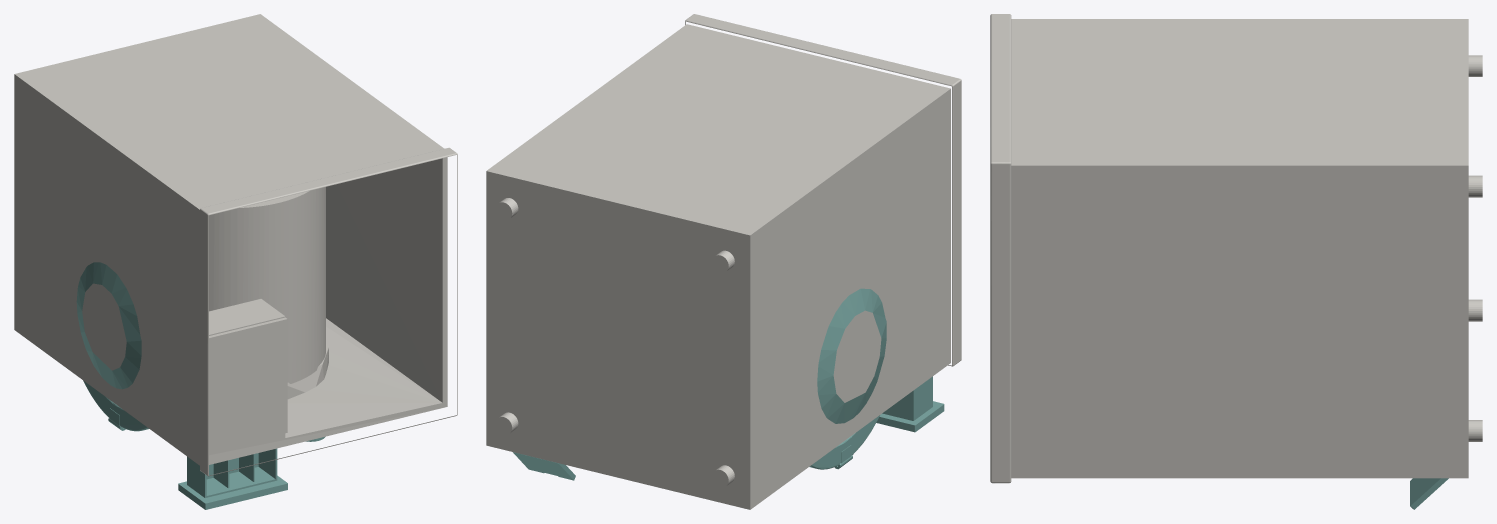
The model's file is wm_af_open_L90.glb.
The picture shows the model from 3 angles, left to right: view 1: azimuth 30°, elevation 25°; view 2: azimuth 150°, elevation 25°; view 3: azimuth 270°, elevation 25°; orthographic projection. The views are drawn at different scales.
Visible parts, largest first — view 1: world; view 2: world; view 3: world.
Part boxes in pixels (box(x1,y1,x2,y2)): world: box(14, 14, 457, 509); world: box(486, 14, 961, 509); world: box(990, 14, 1482, 509).
Size of the model in its own units: 0.617 by 0.7135 by 0.85.
